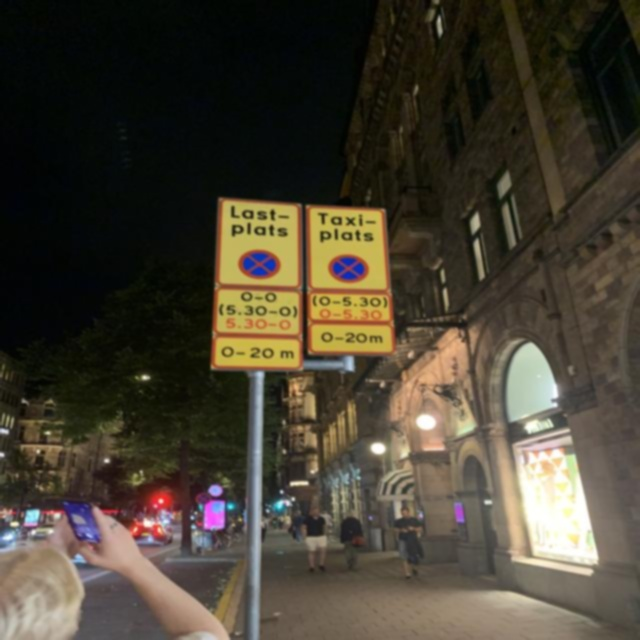lastplats: (210, 194, 304, 290)
